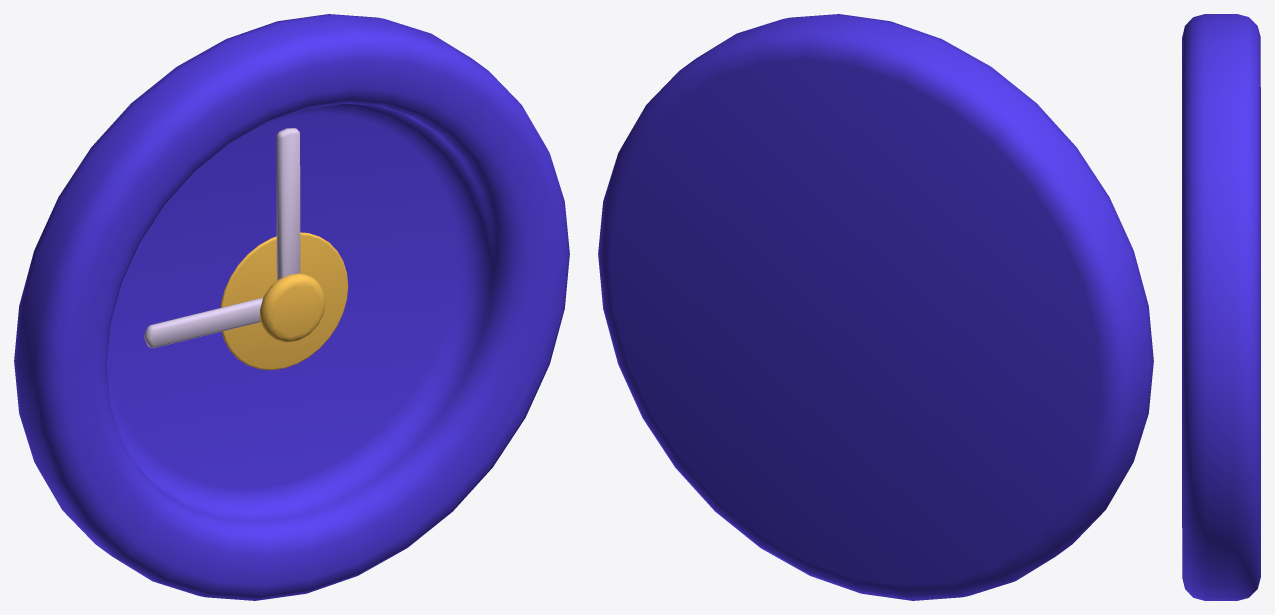
The model's file is CLOCK.glb.
3 renders of one model, left to right at view 1: azimuth 30°, elevation 25°; view 2: azimuth 150°, elevation 25°; view 3: azimuth 270°, elevation 25°, orthographic. The views are drawn at different scales.
Visible parts, largest first — view 1: Cylinder, Cylinder.001, Cube.001, Cylinder.002, Cube; view 2: Cylinder; view 3: Cylinder.
Part boxes in pixels (bbox=[...]): Cylinder: bbox=[14, 14, 569, 600]; Cylinder.001: bbox=[220, 232, 348, 370]; Cube.001: bbox=[276, 128, 300, 280]; Cylinder.002: bbox=[260, 273, 325, 342]; Cube: bbox=[144, 297, 262, 348]; Cylinder: bbox=[598, 14, 1153, 600]; Cylinder: bbox=[1182, 14, 1260, 600].
Bounding box in the file's own units: 2 × 2 × 0.268.
